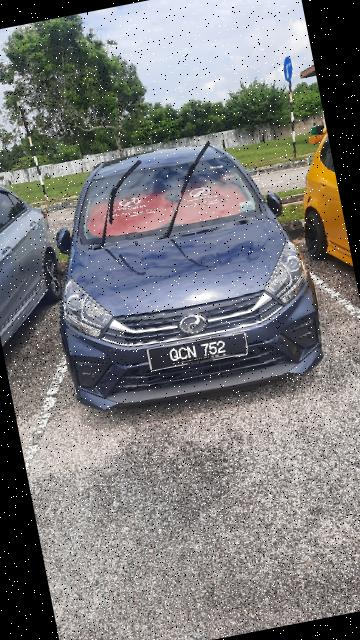License_Plate: (146, 329, 253, 376)
car: (28, 122, 334, 423)
